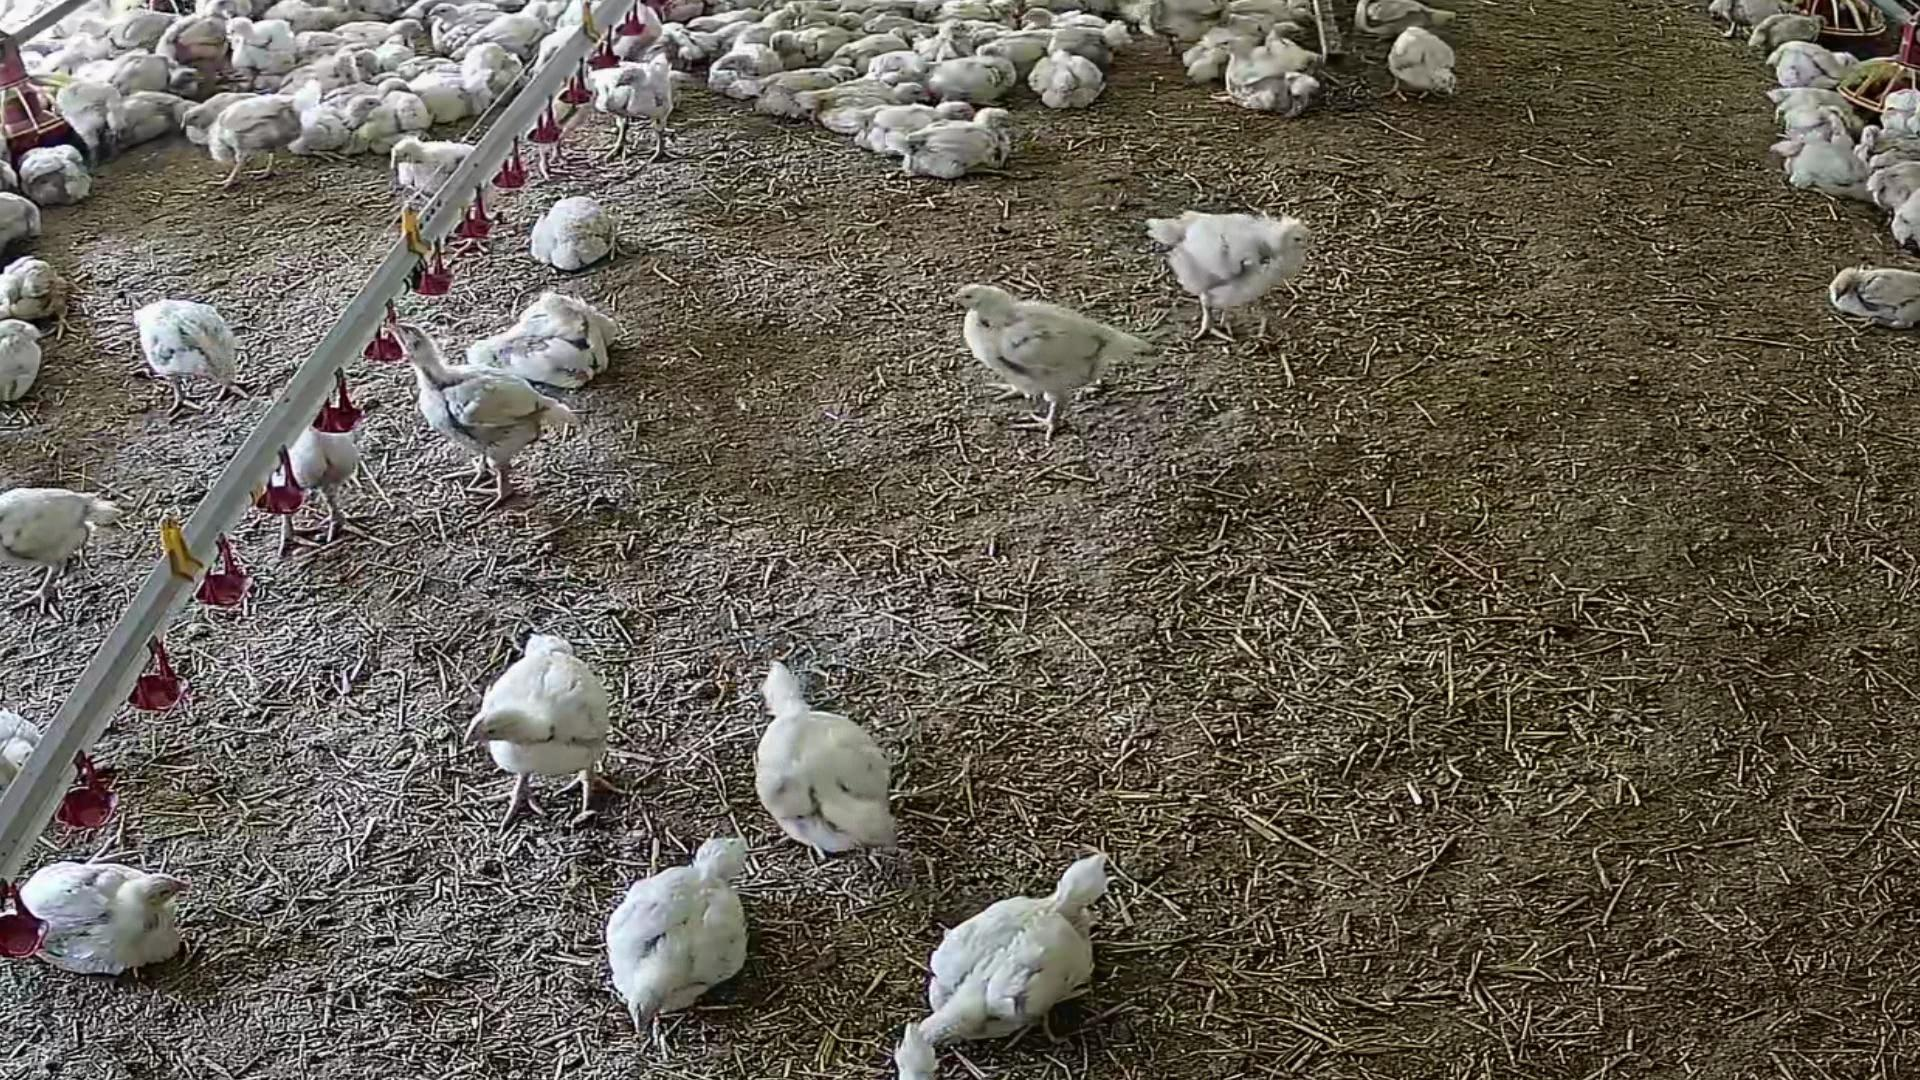poussin: (895, 848, 1122, 1080), (386, 319, 575, 508), (463, 633, 625, 844), (947, 280, 1156, 439), (741, 662, 903, 861), (603, 837, 748, 1038), (1145, 215, 1317, 343), (15, 860, 190, 972), (0, 484, 119, 625), (274, 375, 360, 563), (127, 297, 249, 410), (469, 293, 612, 389), (177, 95, 294, 182), (527, 193, 629, 273), (604, 51, 674, 164), (1218, 36, 1313, 116), (909, 112, 1021, 177), (1383, 29, 1464, 109), (1772, 132, 1862, 203), (1, 260, 80, 338), (287, 95, 382, 157), (0, 712, 59, 810), (832, 82, 943, 133), (393, 133, 480, 198), (1026, 4, 1135, 54), (47, 76, 117, 154), (18, 144, 107, 204), (1826, 266, 1919, 324), (160, 4, 236, 71), (744, 73, 861, 113), (877, 99, 977, 145), (0, 313, 53, 397), (105, 87, 179, 146), (924, 59, 1022, 104), (1762, 41, 1862, 83), (225, 18, 302, 70), (1188, 20, 1247, 84), (477, 4, 546, 55), (1130, 0, 1211, 44), (1354, 0, 1452, 36), (414, 78, 498, 117), (103, 8, 187, 47), (1034, 58, 1098, 109), (99, 51, 171, 95), (1215, 0, 1313, 32), (1760, 95, 1857, 125), (1713, 0, 1793, 36), (1869, 156, 1919, 210), (717, 55, 844, 76), (0, 187, 42, 247), (1743, 16, 1828, 45), (738, 11, 795, 51), (976, 29, 1044, 62), (463, 50, 516, 90), (796, 25, 861, 55), (342, 18, 427, 41), (1880, 87, 1919, 136), (430, 3, 485, 36), (684, 29, 770, 50), (928, 18, 975, 55), (1858, 138, 1919, 166), (872, 50, 920, 83), (773, 32, 822, 63), (349, 18, 423, 34), (1903, 182, 1919, 251), (864, 18, 934, 33), (353, 50, 382, 79), (832, 9, 862, 29)
